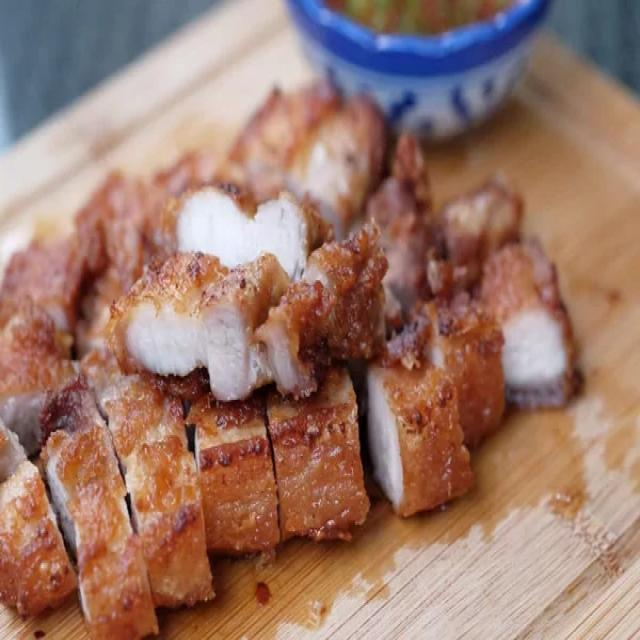thit chien: (0, 139, 578, 638)
